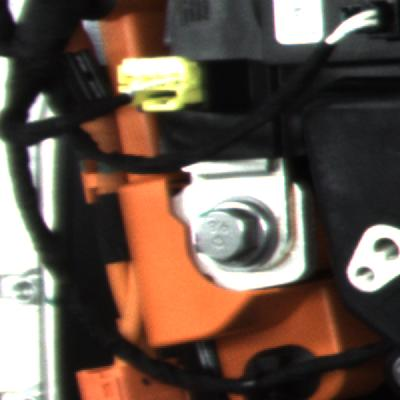nut_b: (184, 189, 286, 277)
